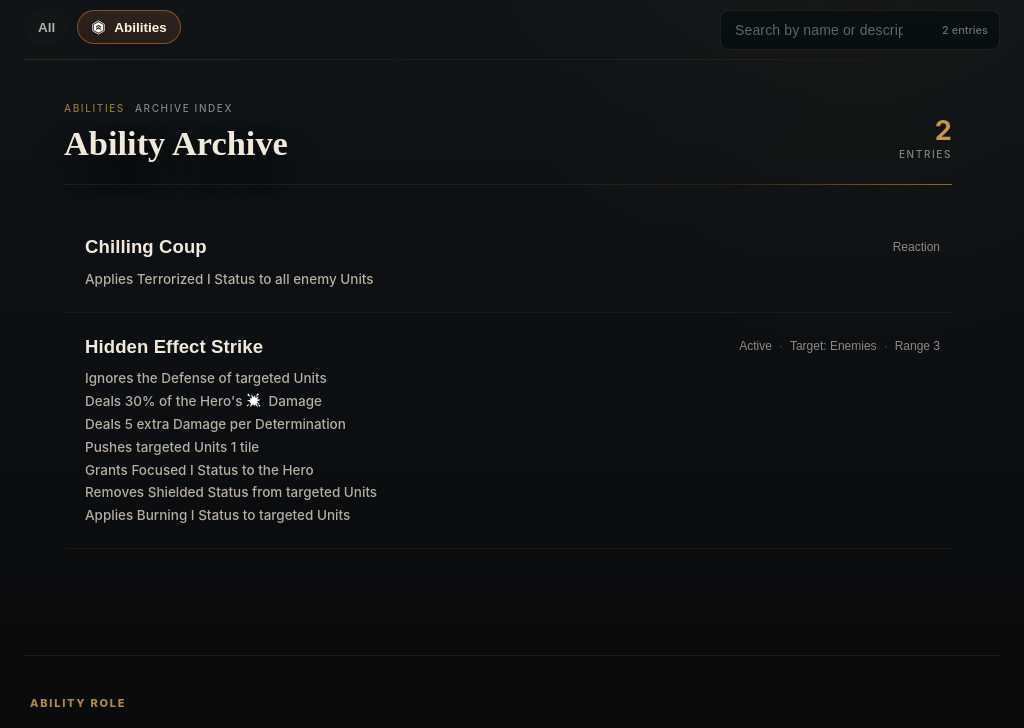
Test case: CodexPage metadata overview and search rendering › surfaces search-matched Ability effect lines and suppresses catalog taxonomy leakage
The width and height of the screenshot is (1024, 728).
Expected: the text "Applies Terrorized I Status to all enemy Units" is shown, x1=85 y1=270 x2=374 y2=286
Type "weakened" into the dropdown named "search the encyclopedia" at (860, 30), box x1=720 y1=10 x2=1000 y2=50
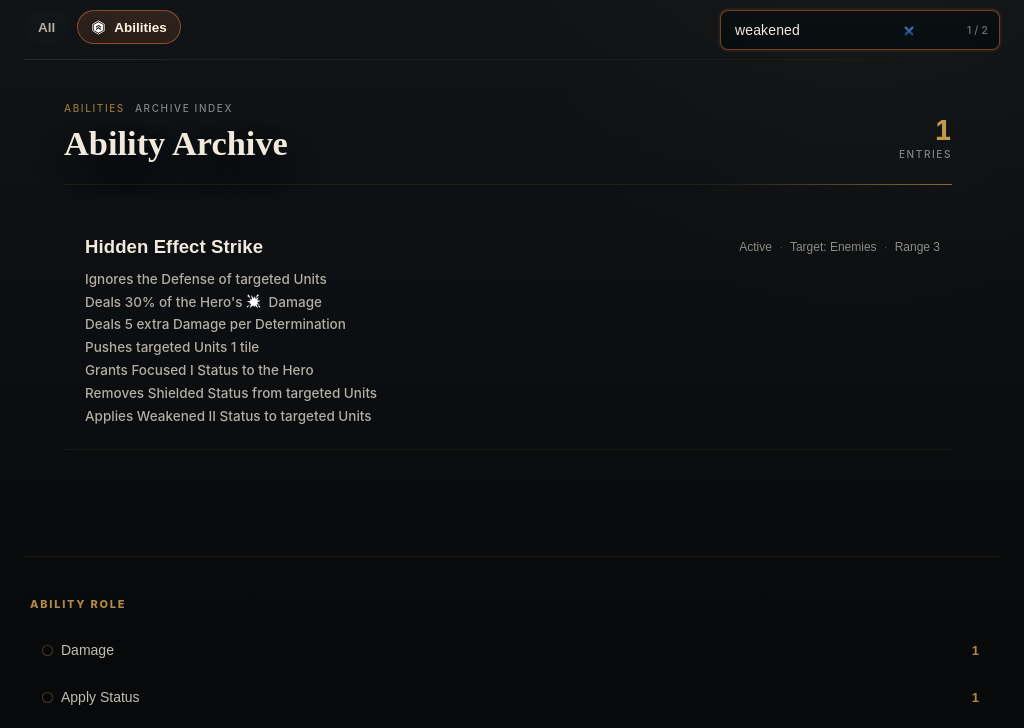
Expected: the heading "Ability Archive" is shown, x1=64 y1=126 x2=288 y2=160
Result: the button "Chilling Coup" is gone
Result: the text "Applies Burning I Status to targeted Units" is gone
